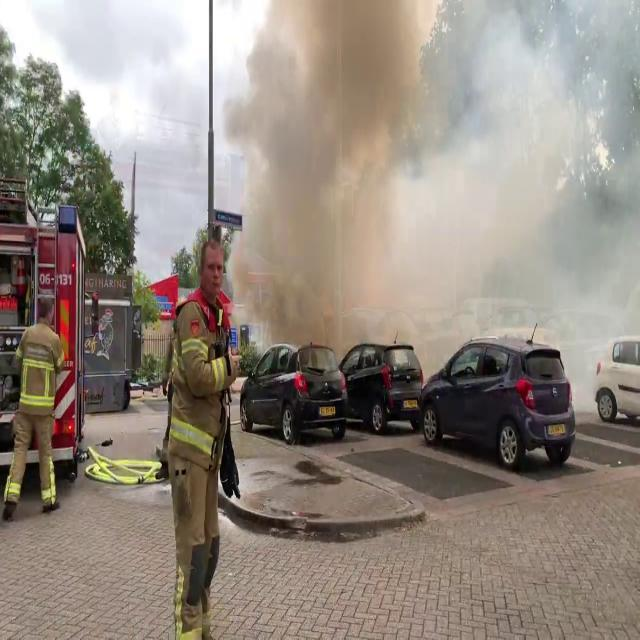Smoke: (225, 1, 640, 339)
